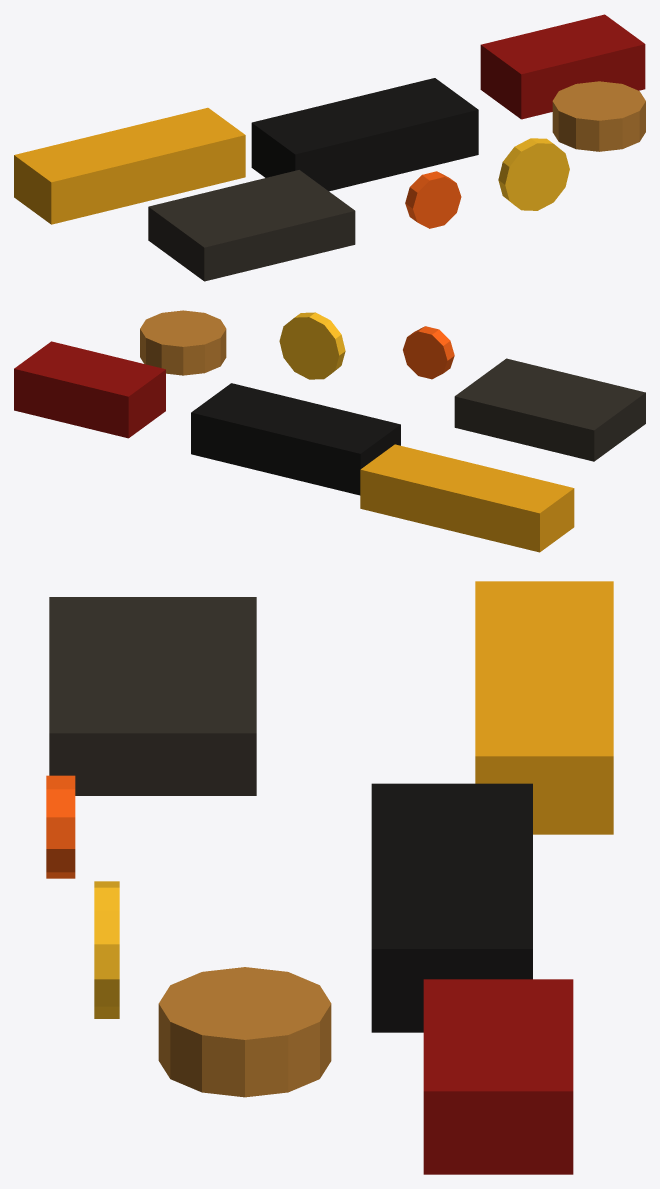
File: FRAG_ERB_Bulwark_ShutdownFragments.obj
3 views of the same model, one above another, from view 1: azimuth 30°, elevation 25°; view 2: azimuth 150°, elevation 25°; view 3: azimuth 270°, elevation 25° (orthographic). The views are drawn at different scales.
Visible parts, largest first — view 1: bulwark_blackened_chassis_shard, bulwark_dimmed_mask_plate_fragment, bulwark_red_pressure_tank_label_shard, bulwark_shield_hinge_shutdown_piece, bulwark_hammer_face_shutdown_piece, bulwark_pressure_tank_cap_fragment, bulwark_broken_weak_point_lamp_lens, bulwark_loose_furnace_eye_glass; view 2: bulwark_blackened_chassis_shard, bulwark_dimmed_mask_plate_fragment, bulwark_red_pressure_tank_label_shard, bulwark_shield_hinge_shutdown_piece, bulwark_hammer_face_shutdown_piece, bulwark_pressure_tank_cap_fragment, bulwark_broken_weak_point_lamp_lens, bulwark_loose_furnace_eye_glass; view 3: bulwark_dimmed_mask_plate_fragment, bulwark_blackened_chassis_shard, bulwark_red_pressure_tank_label_shard, bulwark_hammer_face_shutdown_piece, bulwark_pressure_tank_cap_fragment, bulwark_shield_hinge_shutdown_piece, bulwark_broken_weak_point_lamp_lens, bulwark_loose_furnace_eye_glass.
Boxes of the visible parts, bbox=[...] form: bulwark_blackened_chassis_shard: bbox=[251, 78, 478, 191]; bulwark_dimmed_mask_plate_fragment: bbox=[148, 170, 355, 281]; bulwark_red_pressure_tank_label_shard: bbox=[480, 14, 645, 119]; bulwark_shield_hinge_shutdown_piece: bbox=[14, 131, 148, 224]; bulwark_hammer_face_shutdown_piece: bbox=[111, 107, 245, 200]; bulwark_pressure_tank_cap_fragment: bbox=[552, 81, 645, 151]; bulwark_broken_weak_point_lamp_lens: bbox=[498, 138, 569, 210]; bulwark_loose_furnace_eye_glass: bbox=[405, 171, 461, 228]; bulwark_blackened_chassis_shard: bbox=[191, 383, 400, 495]; bulwark_dimmed_mask_plate_fragment: bbox=[454, 358, 645, 461]; bulwark_red_pressure_tank_label_shard: bbox=[14, 341, 165, 438]; bulwark_shield_hinge_shutdown_piece: bbox=[450, 466, 574, 552]; bulwark_hammer_face_shutdown_piece: bbox=[360, 444, 484, 530]; bulwark_pressure_tank_cap_fragment: bbox=[140, 310, 226, 375]; bulwark_broken_weak_point_lamp_lens: bbox=[279, 312, 345, 379]; bulwark_loose_furnace_eye_glass: bbox=[403, 326, 454, 379]; bulwark_dimmed_mask_plate_fragment: bbox=[49, 597, 256, 795]; bulwark_blackened_chassis_shard: bbox=[371, 783, 532, 1032]; bulwark_red_pressure_tank_label_shard: bbox=[423, 979, 573, 1174]; bulwark_hammer_face_shutdown_piece: bbox=[475, 668, 613, 834]; bulwark_pressure_tank_cap_fragment: bbox=[158, 967, 331, 1097]; bulwark_shield_hinge_shutdown_piece: bbox=[475, 581, 613, 668]; bulwark_broken_weak_point_lamp_lens: bbox=[94, 881, 119, 1018]; bulwark_loose_furnace_eye_glass: bbox=[46, 775, 75, 878].
Bounding box in the file's own units: 1.07 × 0.1278 × 0.4925.
